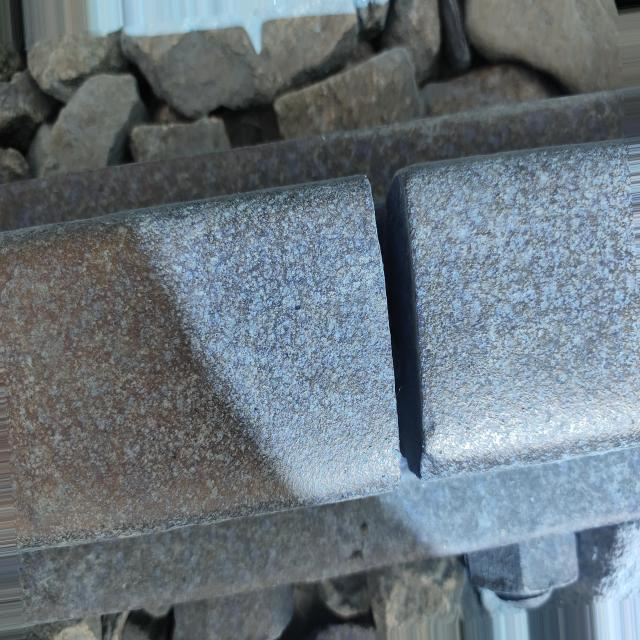crack: (328, 105, 469, 511)
